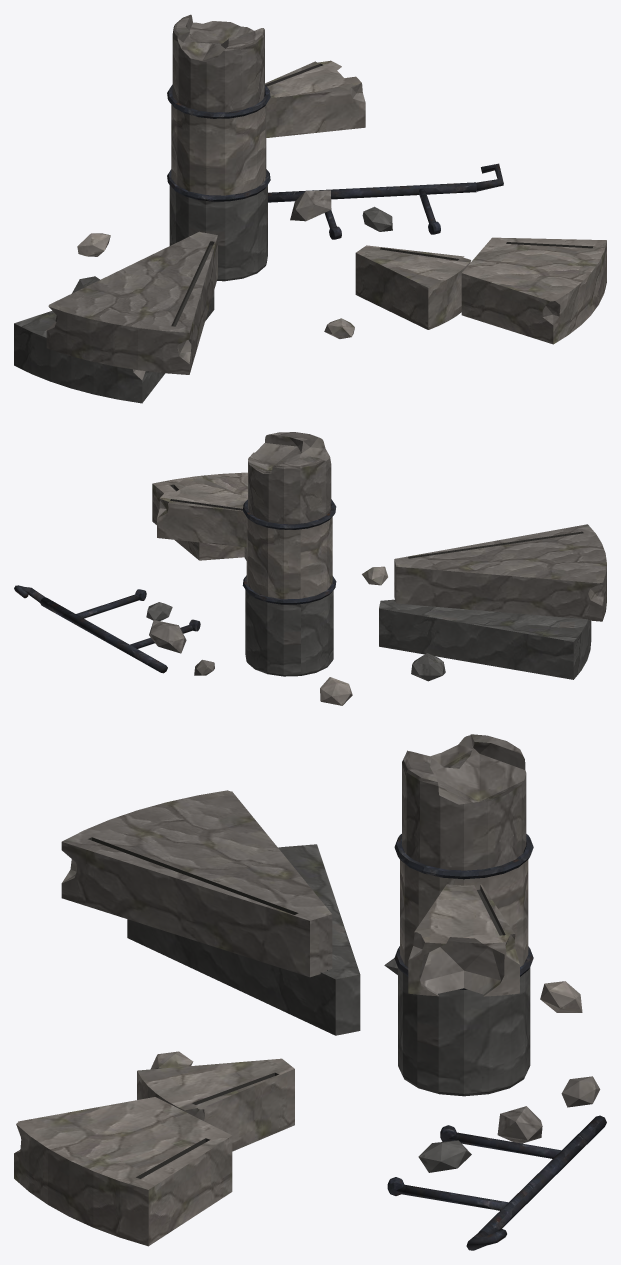
File: rt_stair_landing_broken.glb
The picture shows the model from 3 angles, top to bottom: view 1: azimuth 30°, elevation 25°; view 2: azimuth 150°, elevation 25°; view 3: azimuth 270°, elevation 25°; orthographic projection. The views are drawn at different scales.
Visible parts, largest first — view 1: model; view 2: model; view 3: model.
Boxes of the visible parts, x1,y1,x2,y2 form: model: [14, 14, 606, 403]; model: [14, 432, 606, 705]; model: [14, 734, 606, 1250].
Size of the model in its own units: 2.19 by 0.885 by 1.52.
5 materials, 4 textured.
